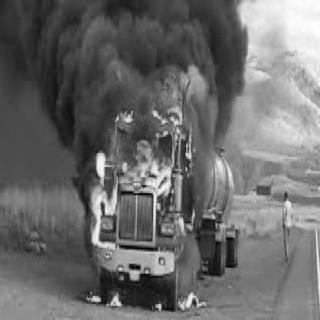Fire: (85, 62, 198, 255), (177, 283, 205, 311), (153, 298, 163, 310)
Smoke: (0, 0, 248, 117)
